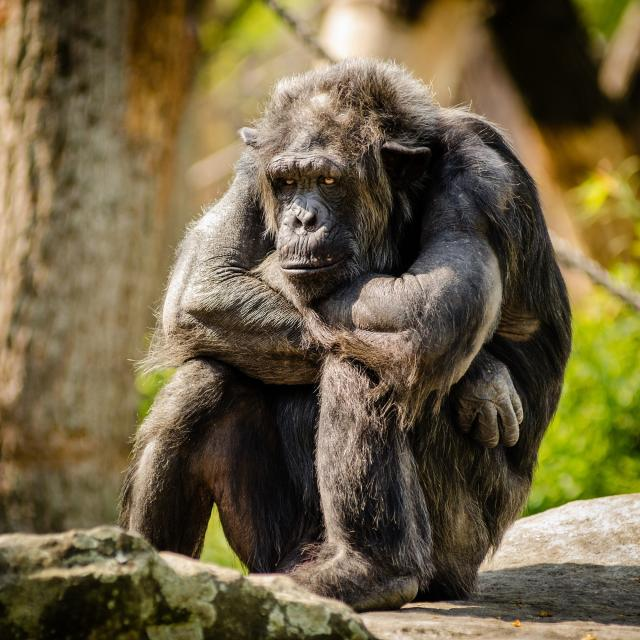animal: (118, 62, 570, 608)
